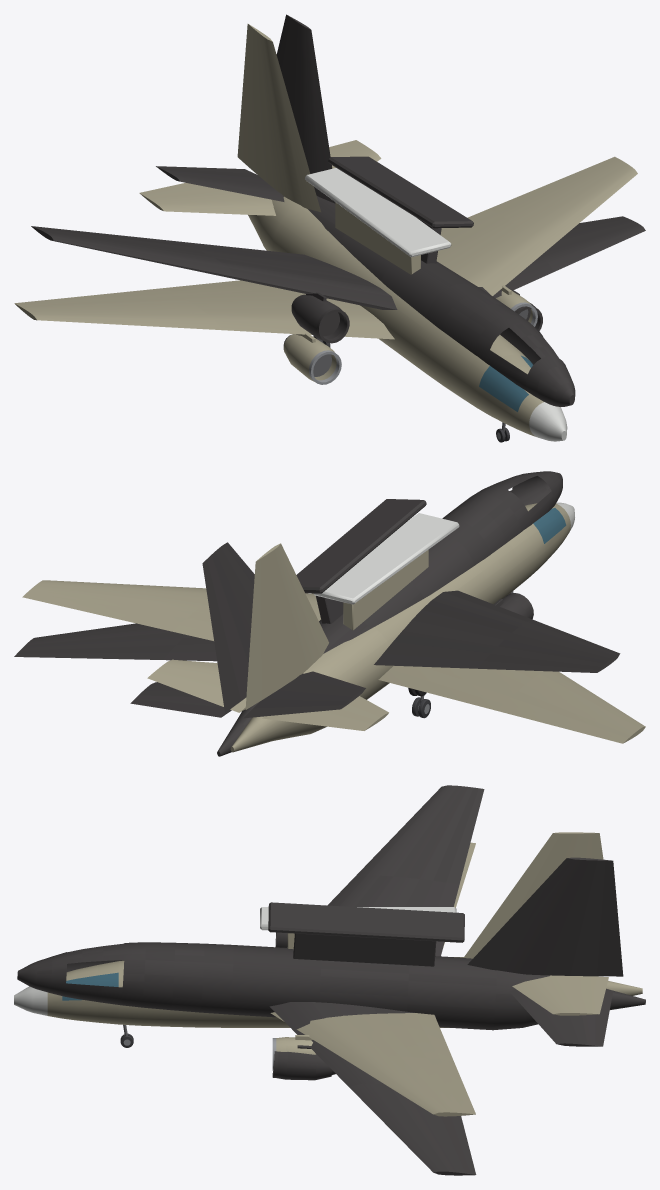
The model's file is aewc__e_7_peace_eye.glb.
3 renders of one model, top to bottom at view 1: azimuth 30°, elevation 25°; view 2: azimuth 150°, elevation 25°; view 3: azimuth 270°, elevation 25°, orthographic. The views are drawn at different scales.
Visible parts, largest first — view 1: Fuselage_Mesh, Wreck; view 2: Fuselage_Mesh, Wreck; view 3: Wreck, Fuselage_Mesh.
Boxes of the visible parts, x1,y1,x2,y2 form: Fuselage_Mesh: (14, 24, 637, 442); Wreck: (31, 14, 645, 406); Fuselage_Mesh: (22, 502, 645, 752); Wreck: (14, 471, 620, 756); Wreck: (17, 785, 645, 1175); Fuselage_Mesh: (14, 832, 642, 1116).
Size of what is drawn, in the model's own units: 34.78 by 12.6 by 33.77.
